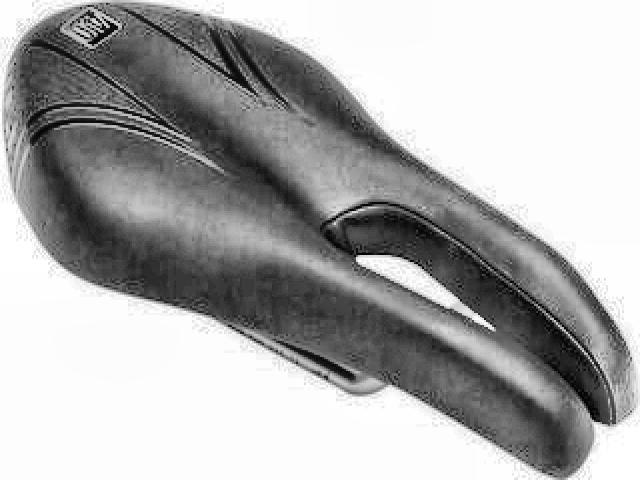saddle: (6, 1, 636, 478)
